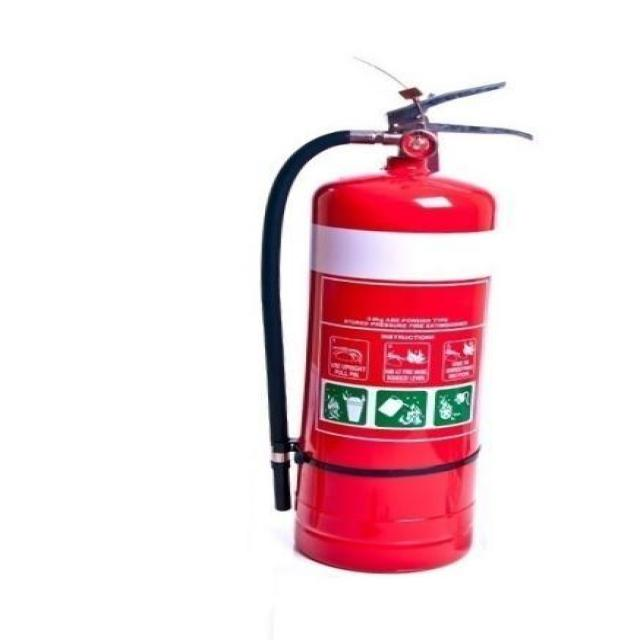fire_extinguisher: (248, 76, 541, 579)
